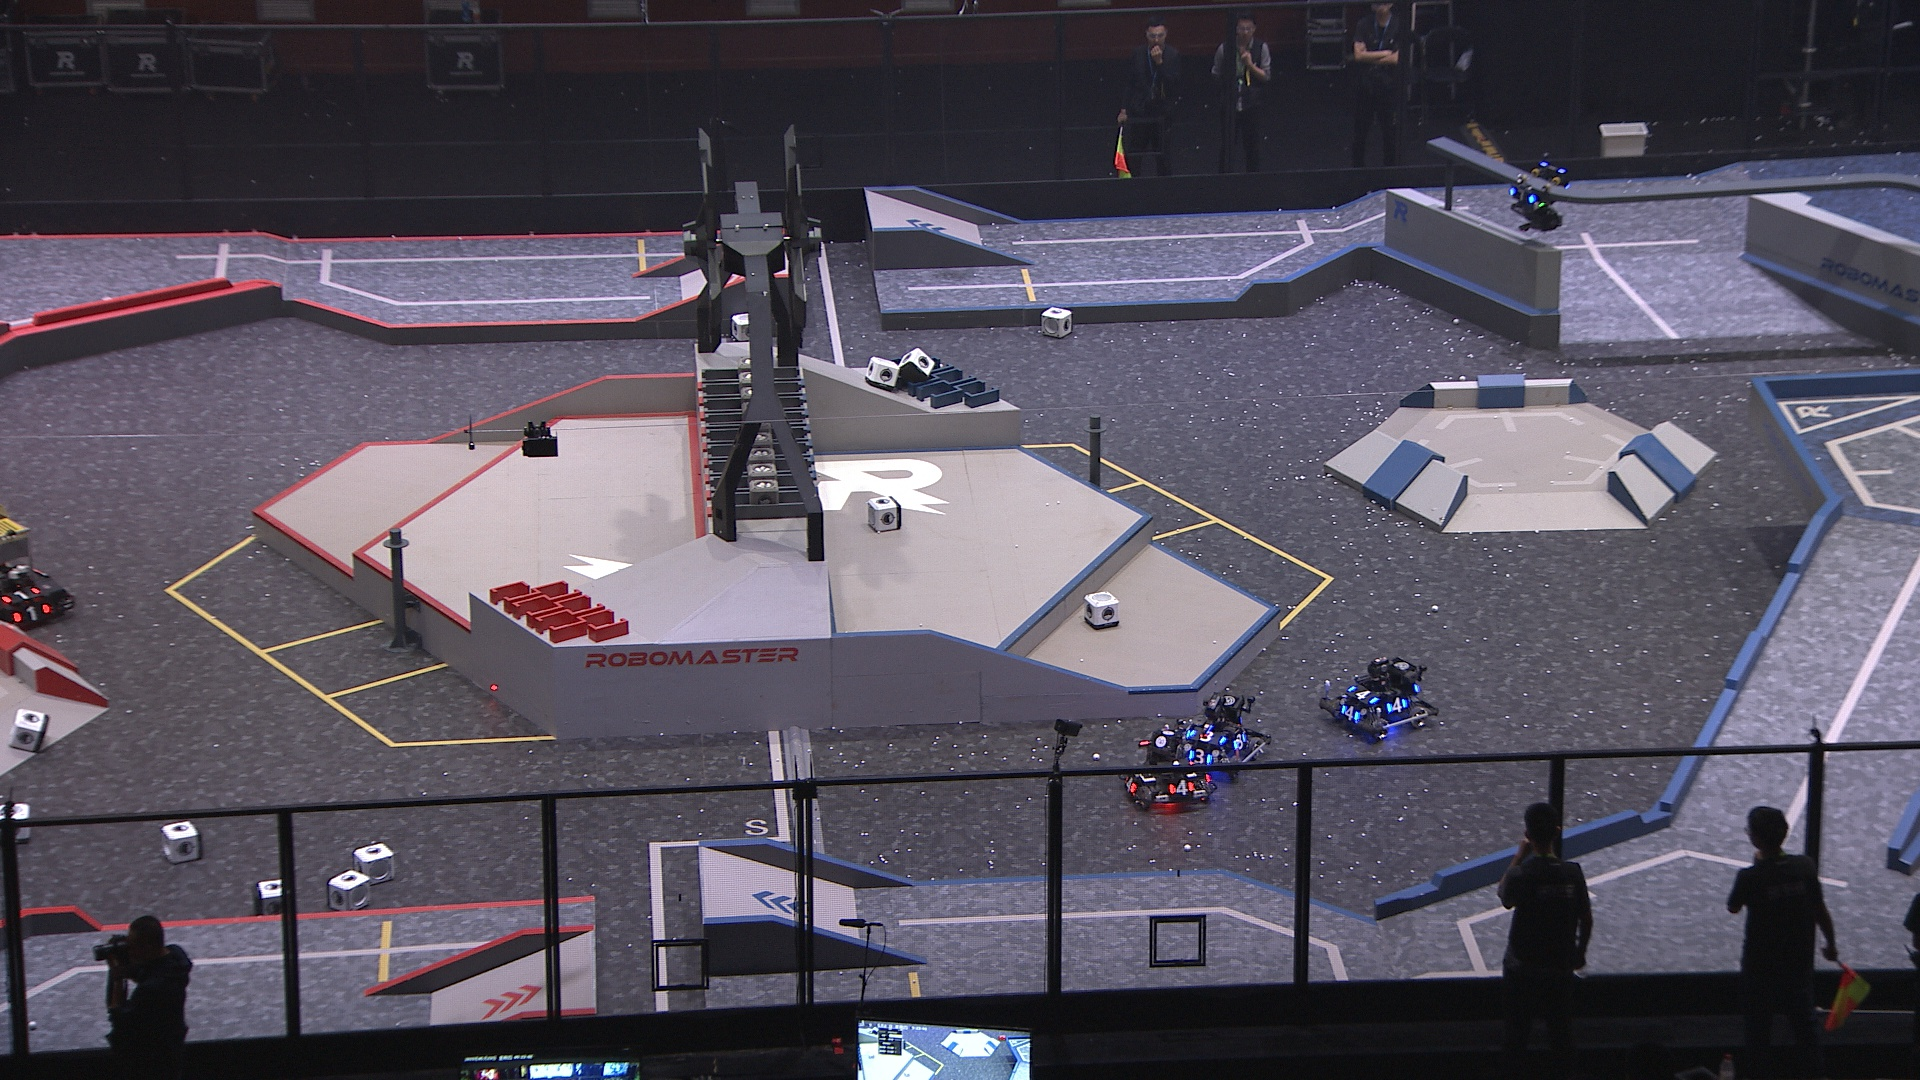armor: (11, 603, 51, 622), (1348, 684, 1385, 704), (3, 585, 41, 604), (1509, 185, 1536, 204), (1340, 704, 1365, 725), (1167, 778, 1195, 796), (1386, 695, 1408, 716), (1185, 749, 1211, 767), (1121, 773, 1138, 796), (1191, 728, 1218, 742), (1233, 732, 1249, 750)
car: (1331, 655, 1439, 741), (1116, 723, 1216, 811), (1179, 692, 1269, 783)
watcher: (1506, 153, 1572, 232)
